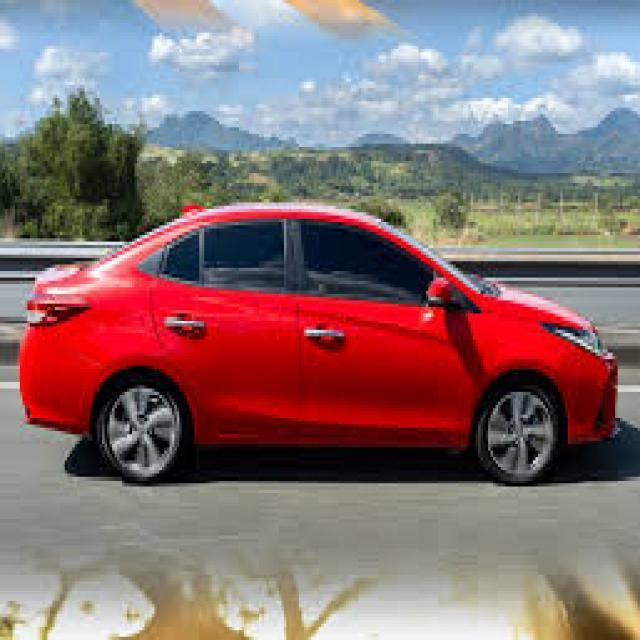ToyotaVios: (17, 200, 619, 485)
